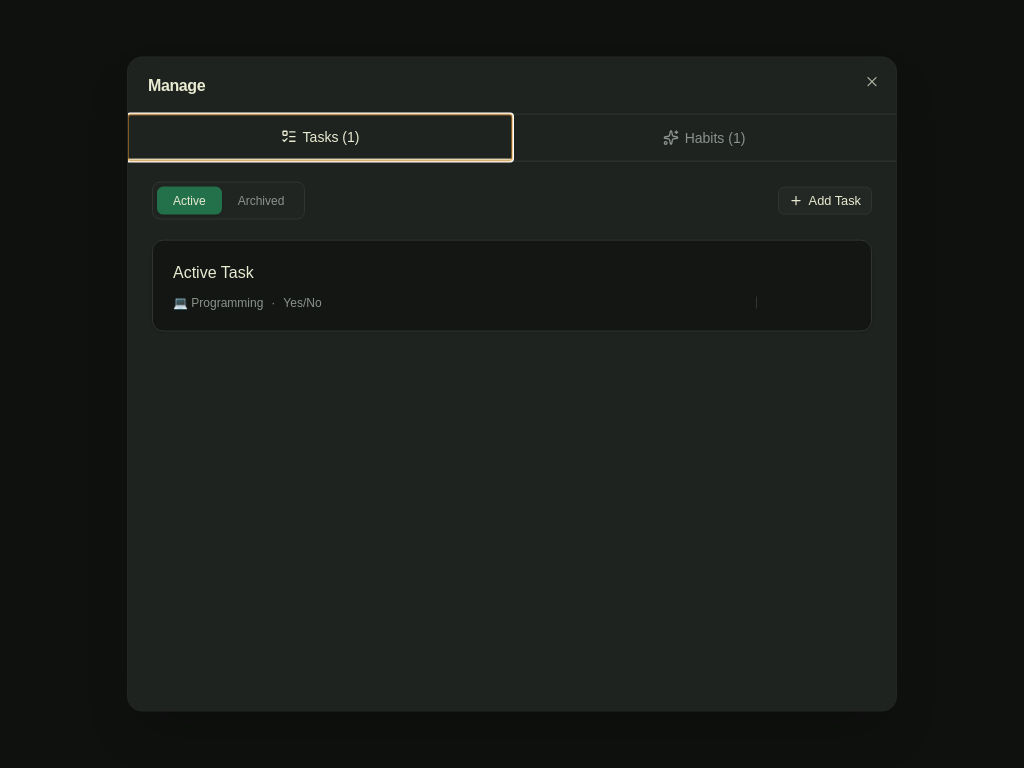
Scenario: ManageModal › opens create forms when clicking add buttons
The image size is (1024, 768).
// Click Add Task
Step 1. Click the button "Add Task" → [825, 201], box [778,187,872,215]
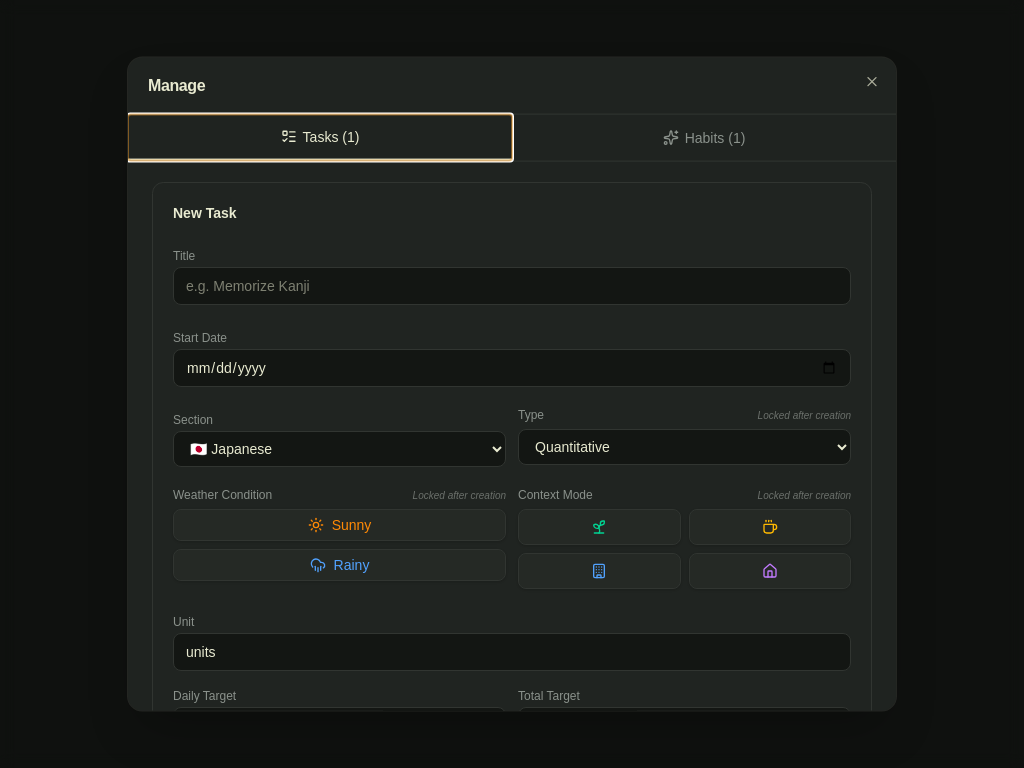
expect the field with placeholder "e.g. Memorize Kanji" is shown: met, box [173,267,851,305]
// Switch back to habits tab which should reset the form state
Step 2. Click the button "Habits (1)" → [704, 138], box [512,115,896,161]
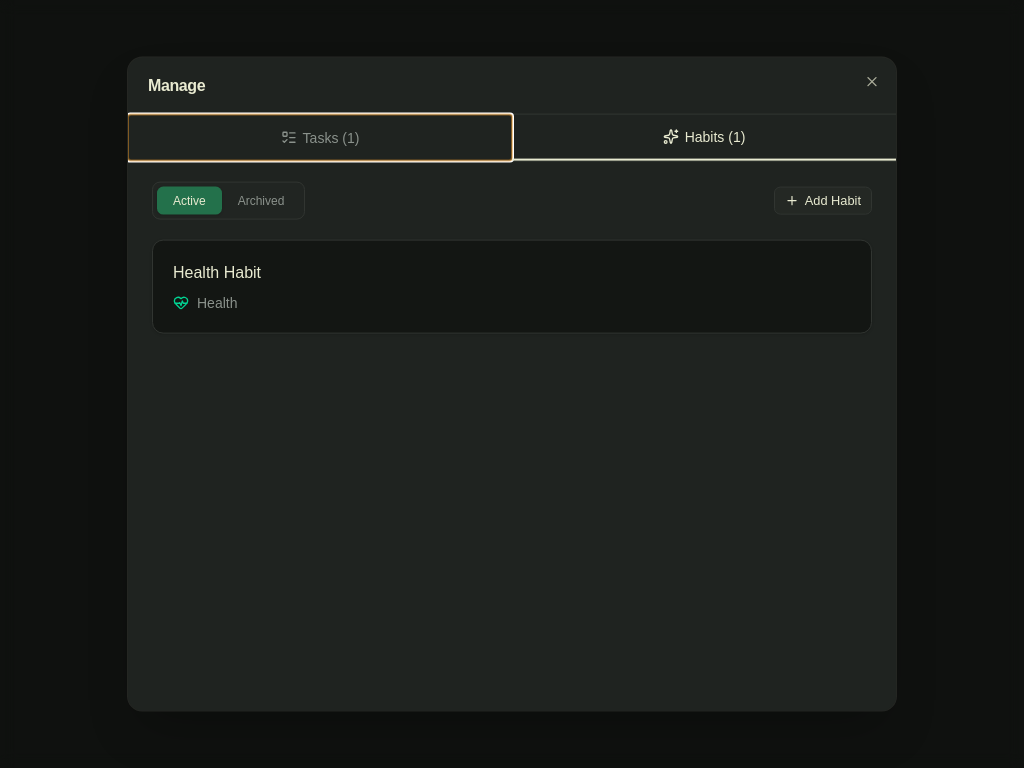
Step 3. Click the button "Add Habit" → [823, 201], box [774,187,872,215]
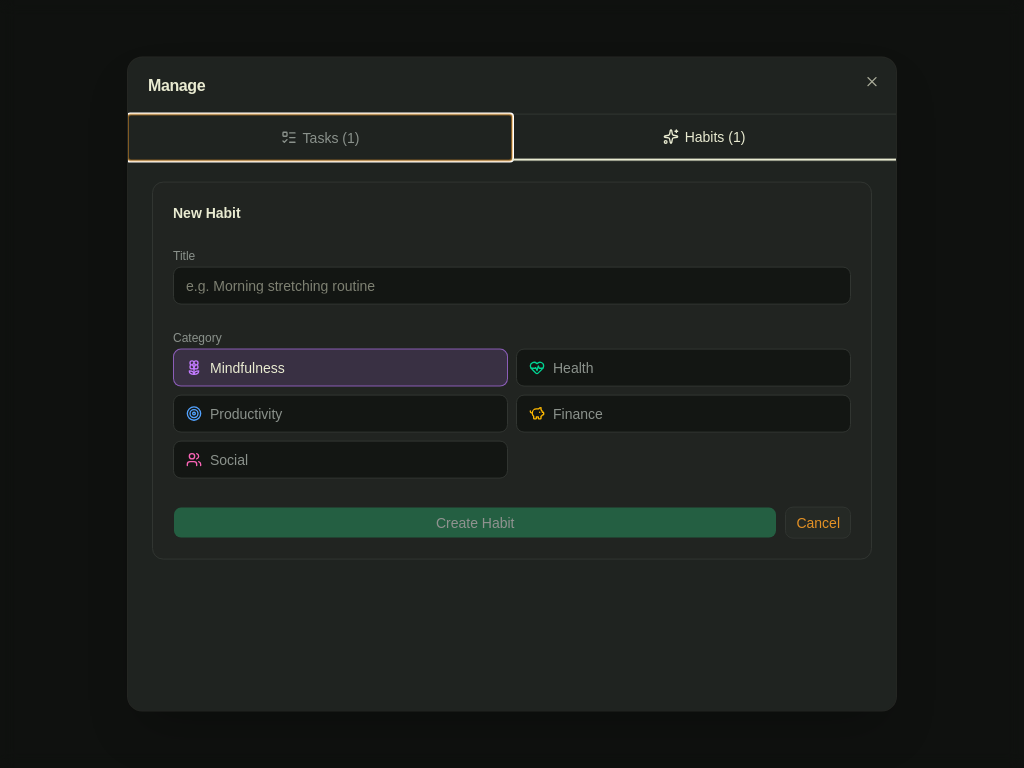
expect the field with placeholder "e.g. Morning stretching routine" is shown: met, box [173,267,851,305]
expect the button "Create Habit" is shown: met, box [173,507,777,539]
